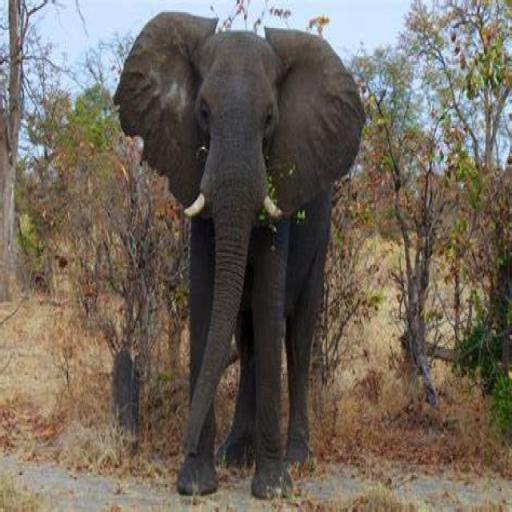Elephant: (112, 8, 366, 498)
